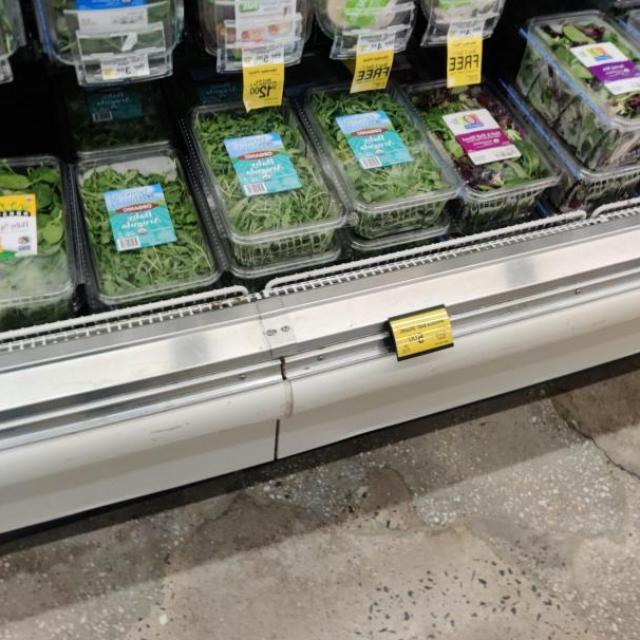Salad: (189, 99, 344, 267), (403, 76, 560, 232), (296, 83, 449, 239), (73, 145, 211, 305), (517, 12, 640, 171), (0, 158, 80, 321)
